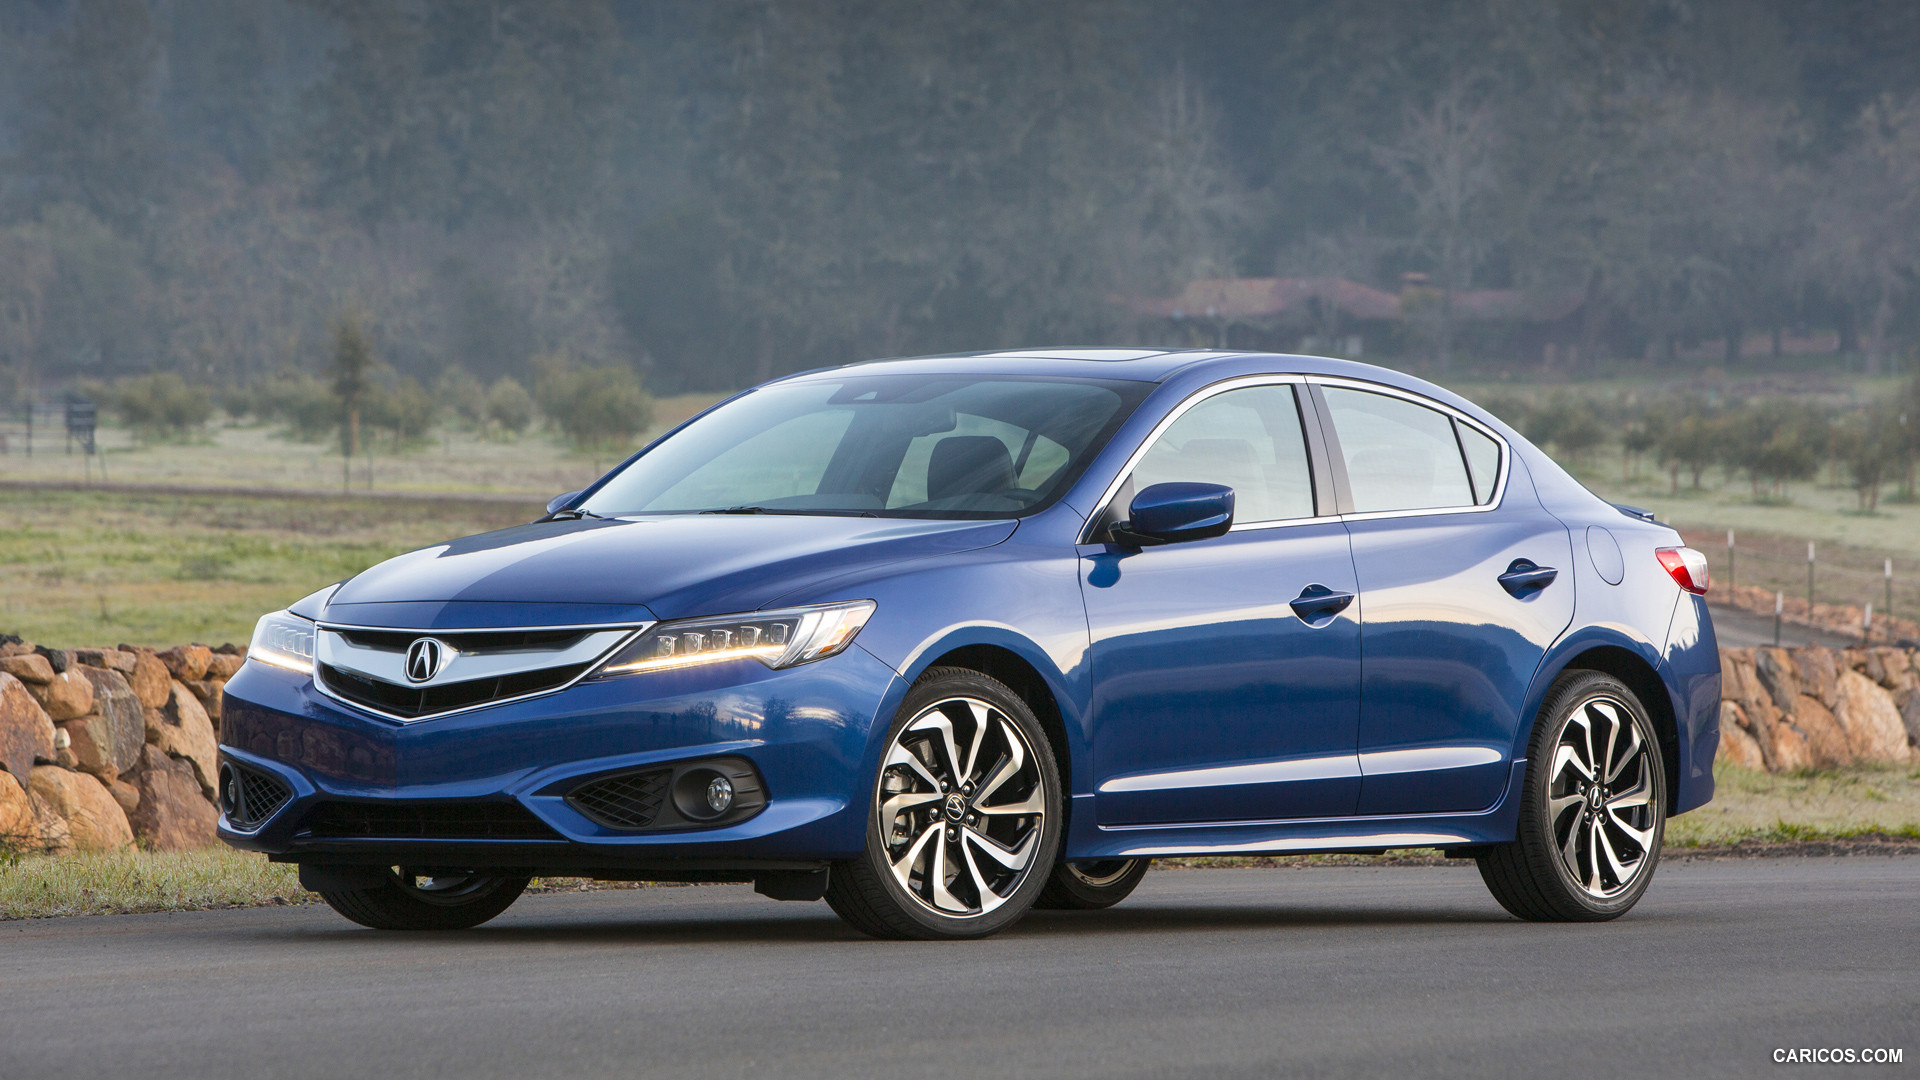Fog Lamp & Scope: (560, 752, 779, 843)
Front: (198, 524, 1071, 876)
Front Bumper: (210, 716, 887, 869)
Grill: (301, 616, 587, 723)
Headlight: (580, 593, 884, 688)
